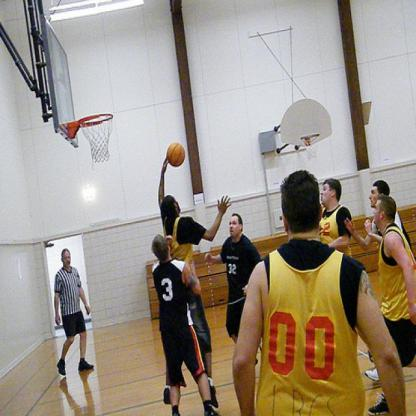basketball: (167, 142, 185, 167)
rim: (79, 113, 113, 129), (300, 133, 320, 140)
